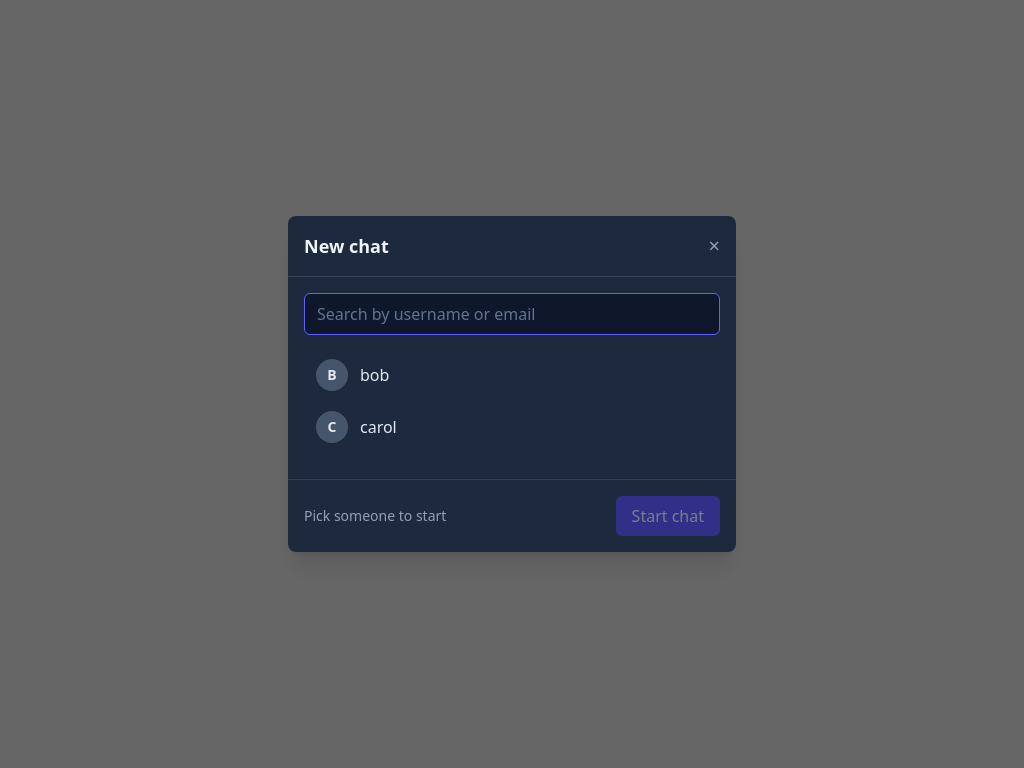
NewChatModal › deselects a user when their chip is clicked
Step 1. Click the text "bob" → click(375, 375), box [360,363,389,387]
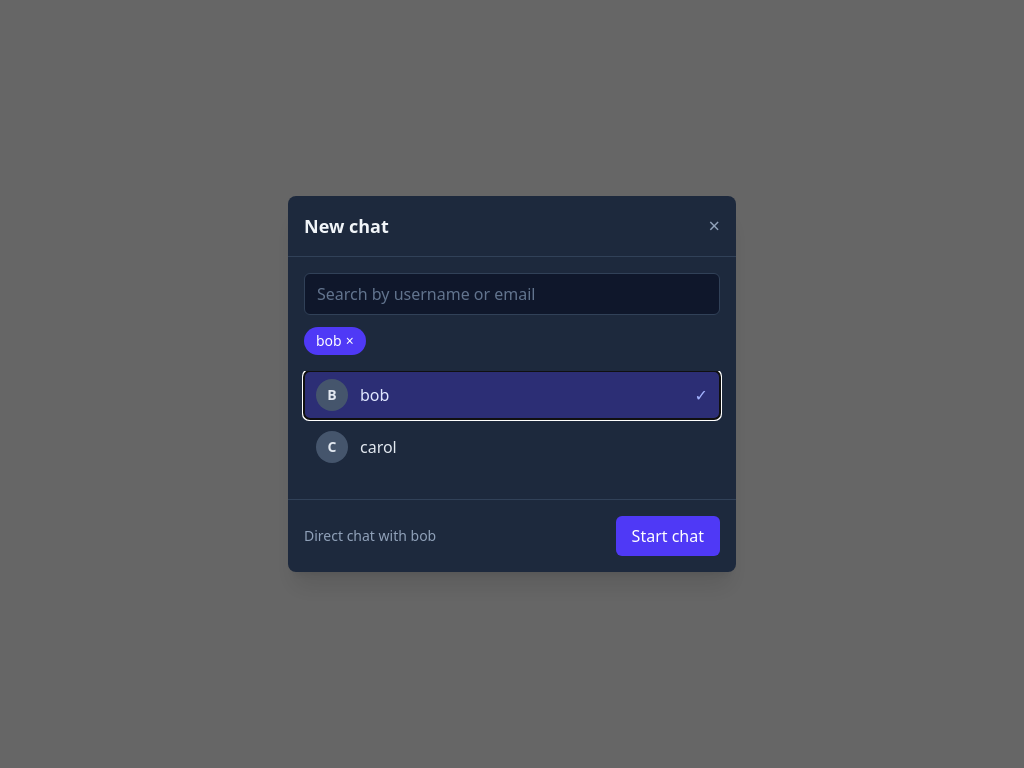
Step 2. Click the button named "remove bob" → click(335, 341), box [304,327,366,355]
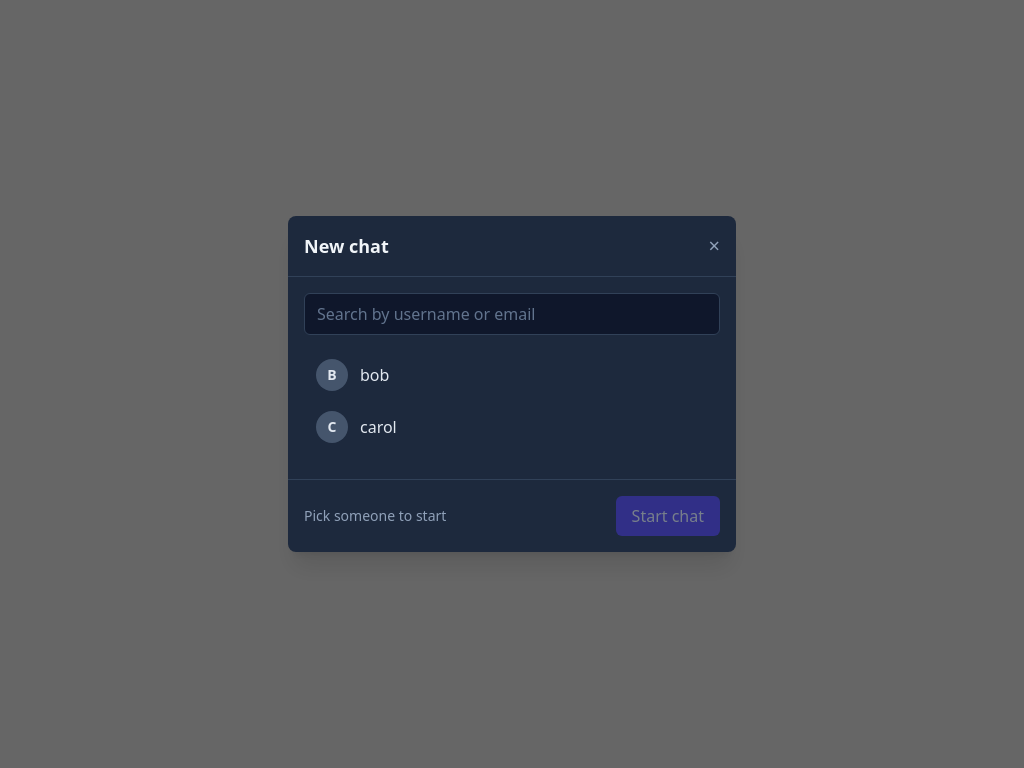
expect the button "Start chat" is disabled: met, box [616,496,720,536]
